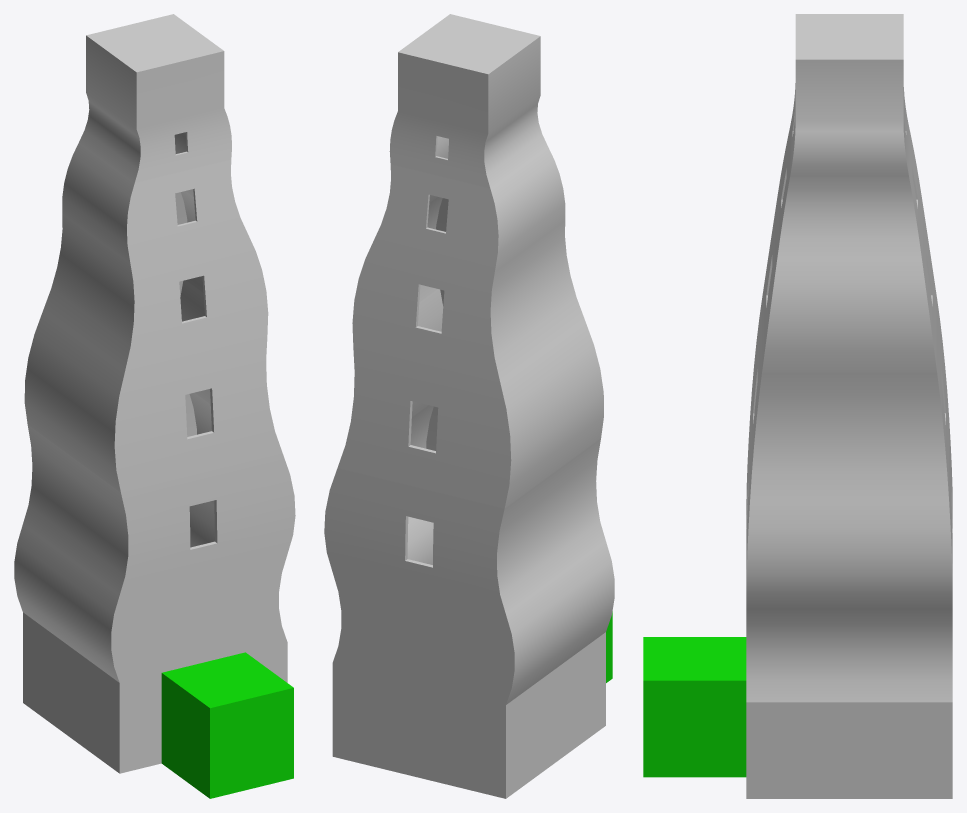
Rendered from SceneXRooms.fbx.
3 views of the same model, side by side, from view 1: azimuth 30°, elevation 25°; view 2: azimuth 150°, elevation 25°; view 3: azimuth 270°, elevation 25° (orthographic). The views are drawn at different scales.
Parts seen in each view (by area): view 1: CenterRoom.007, CenterRoom.001, Room, CenterRoom; view 2: CenterRoom.007, CenterRoom.001, CenterRoom; view 3: CenterRoom.007, CenterRoom, CenterRoom.001, Room.
Boxes of the visible parts, x1,y1,x2,y2 form: CenterRoom.007: (23,14,295,594); CenterRoom.001: (14,501,287,682); Room: (161,652,293,798); CenterRoom: (23,612,287,773); CenterRoom.007: (324,14,605,614); CenterRoom.001: (332,518,614,704); CenterRoom: (332,632,605,798); CenterRoom.007: (746,14,952,608); CenterRoom: (746,702,952,798); CenterRoom.001: (746,608,952,702); Room: (643,637,746,777).
Bounding box in the file's own units: 659 × 2305 × 900.
